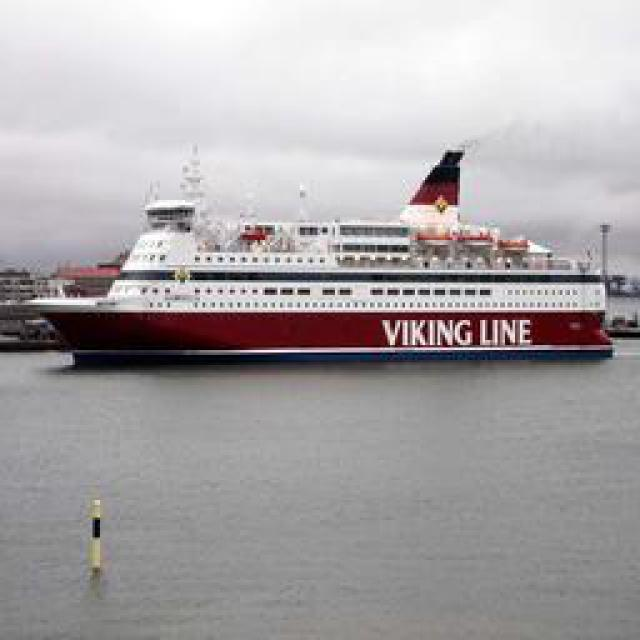Ship: (26, 142, 614, 365)
